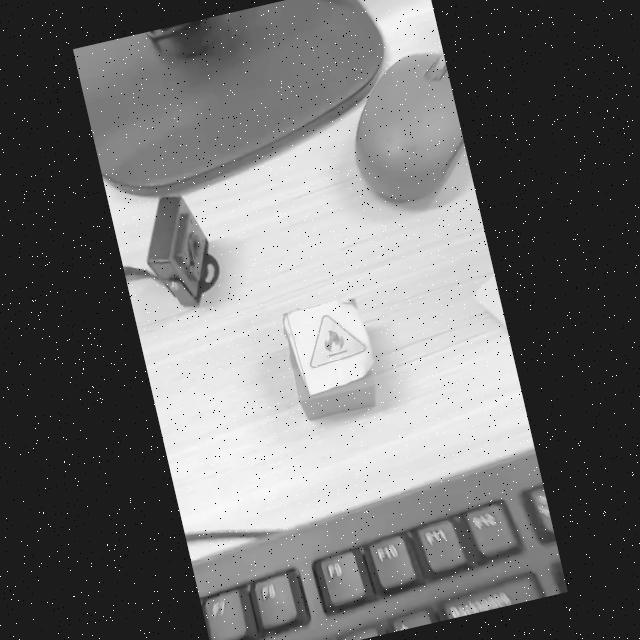Fire: (310, 315, 366, 367)
